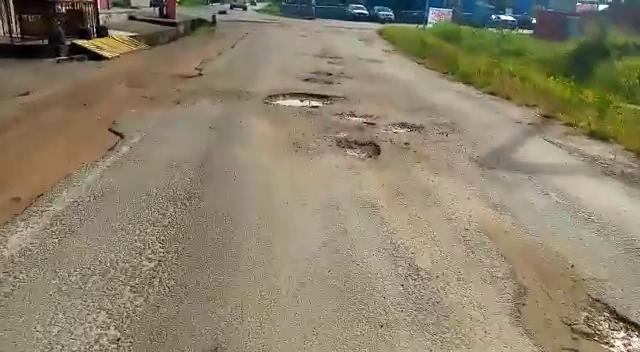pothole: (575, 295, 640, 349), (263, 91, 342, 109), (334, 137, 381, 161), (337, 110, 379, 127), (384, 119, 426, 136)
